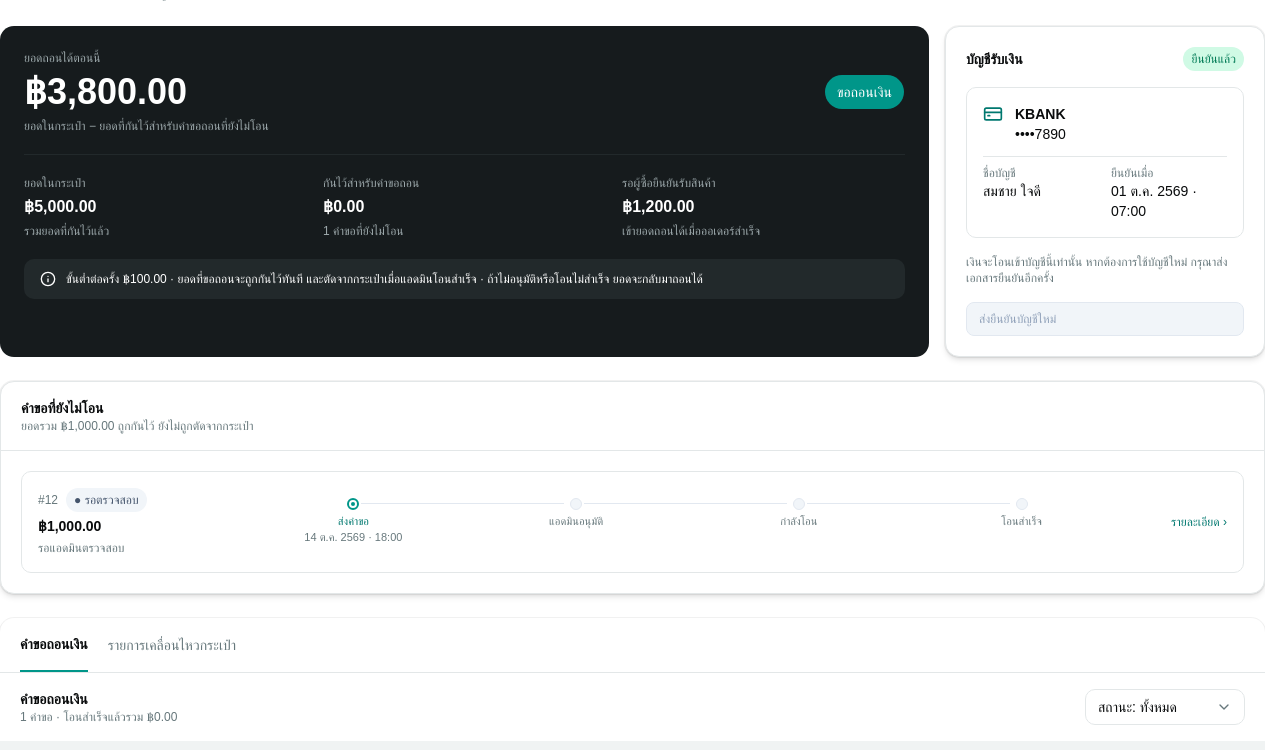
it: SellerPayoutPage › switches to wallet ledger tab and displays transaction history
This screenshot has width=1280, height=750.
What coordinates should you click on to do the following:
click the button "รายการเคลื่อนไหวกระเป๋า"
I would click on:
 (172, 645)
Its box is [108,618,236,672].
(page scrolled)
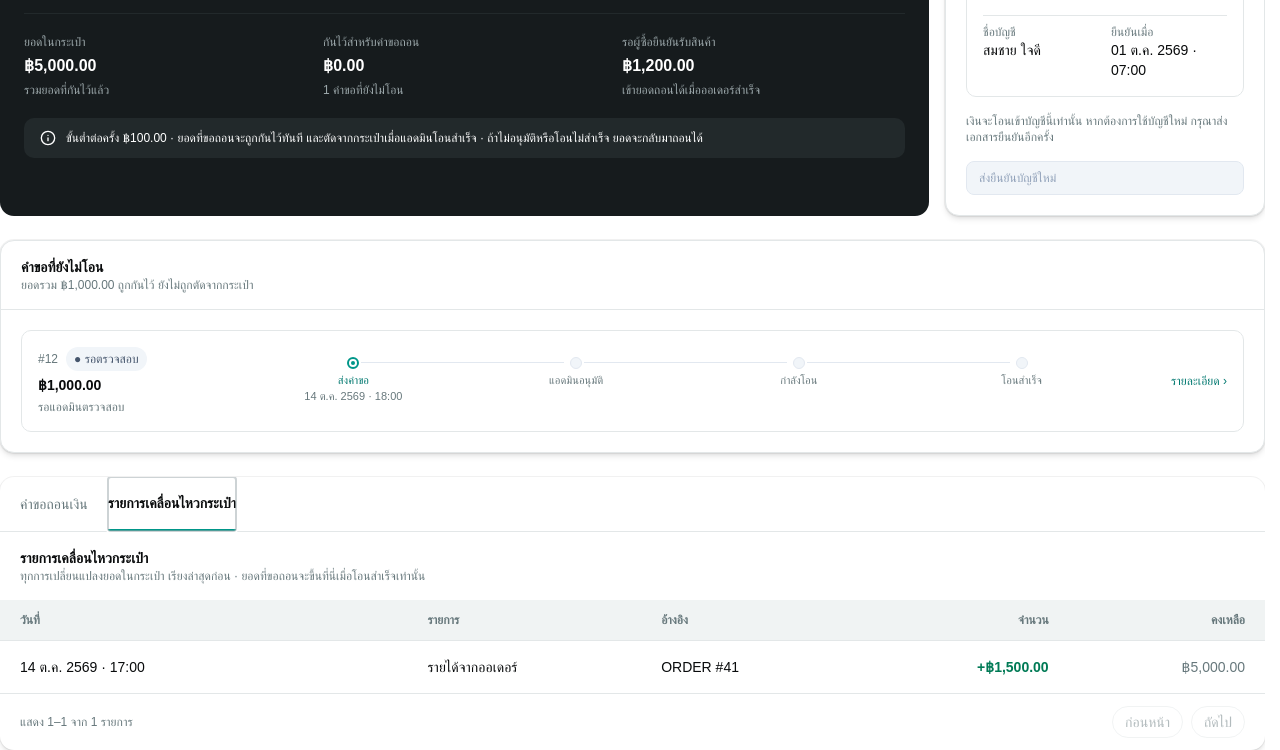
Check: the text "รายได้จากออเดอร์" is shown, box [427,640,661,693]
Check: the text "+฿1,500.00" is shown, box [863,640,1049,693]
